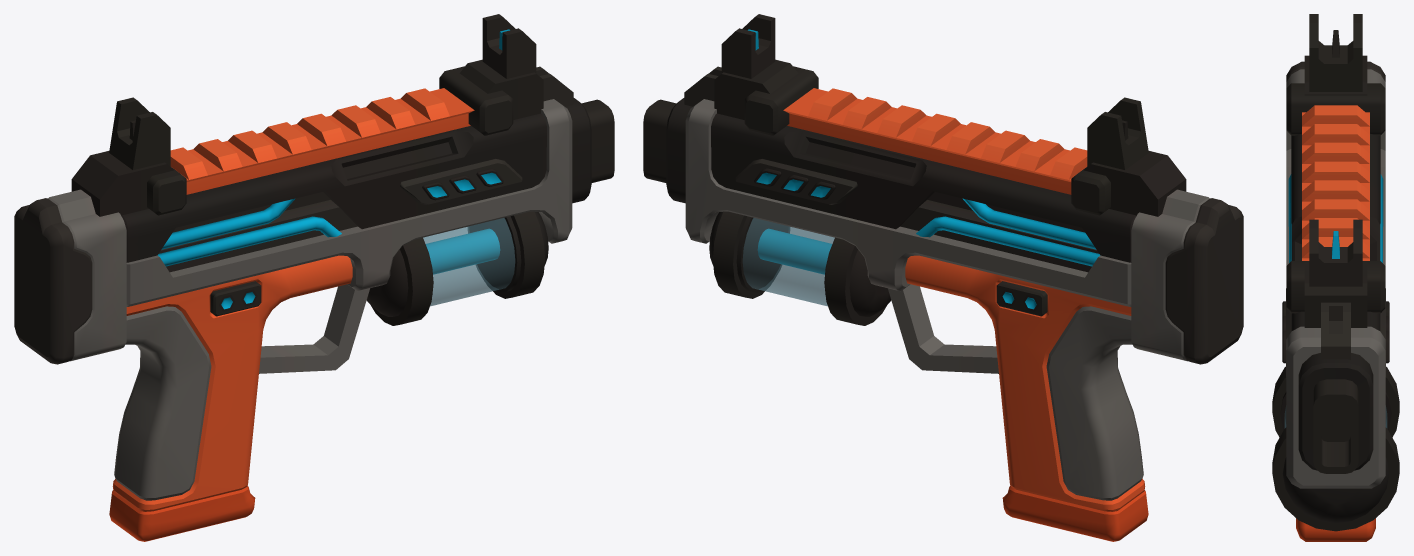
Rendered from SMG7_Base.fbx.
3 views of the same model, side by side, from view 1: azimuth 30°, elevation 25°; view 2: azimuth 150°, elevation 25°; view 3: azimuth 270°, elevation 25° (orthographic). The views are drawn at different scales.
Parts seen in each view (by area): view 1: SMG7_Base; view 2: SMG7_Base; view 3: SMG7_Base.
Boxes of the visible parts, box(x1,y1,x2,y2) form: SMG7_Base: box(14, 14, 614, 541); SMG7_Base: box(643, 14, 1243, 541); SMG7_Base: box(1272, 14, 1399, 541).
Bounding box in the file's own units: 28.25 × 19.95 × 4.88.
